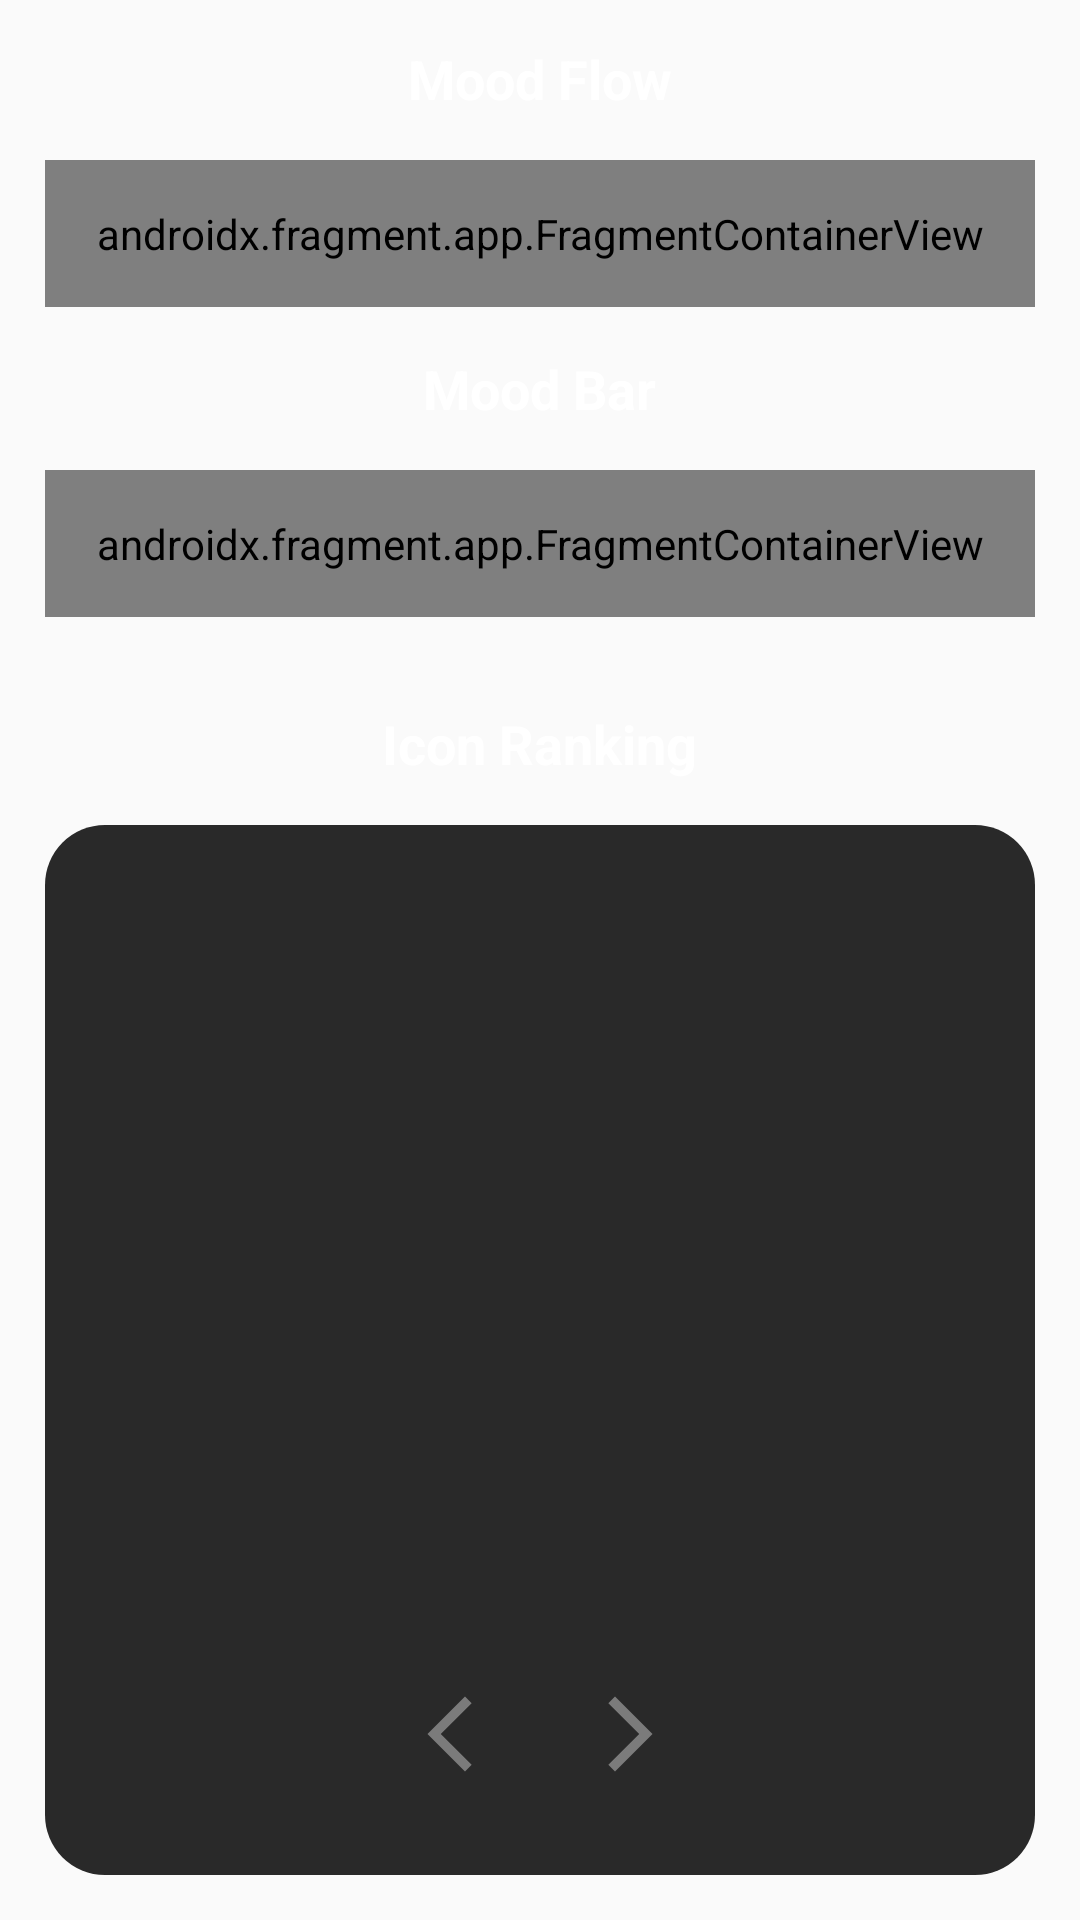

Locate icon controls on the screen. Image size 1080x1920, boxes as (x1, y1, x2, y2).
arrow back: (428, 1697, 472, 1771)
arrow forward: (608, 1697, 652, 1771)
